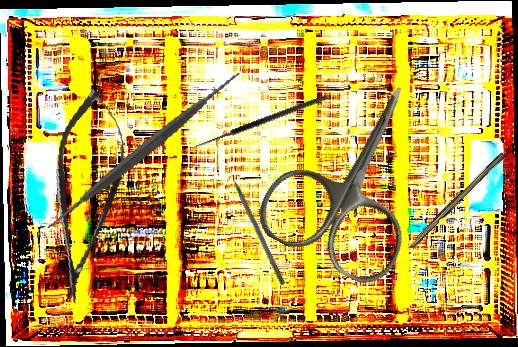Hook Surgical: (191, 93, 331, 158)
Iris Scissors: (247, 54, 468, 294)
Micro Scissor: (38, 84, 134, 308)
Pusher: (223, 160, 288, 287)
Scalpel Handle: (407, 149, 506, 251)
Spatula Surgical: (32, 40, 254, 261)
